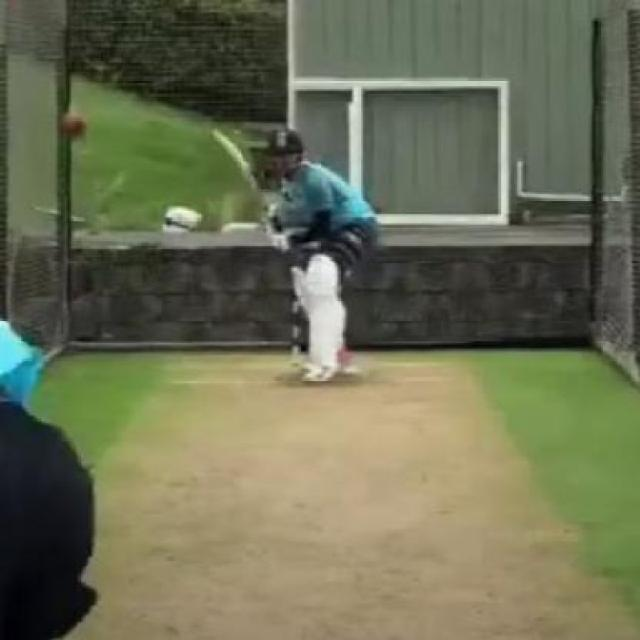ball: (56, 108, 99, 144)
